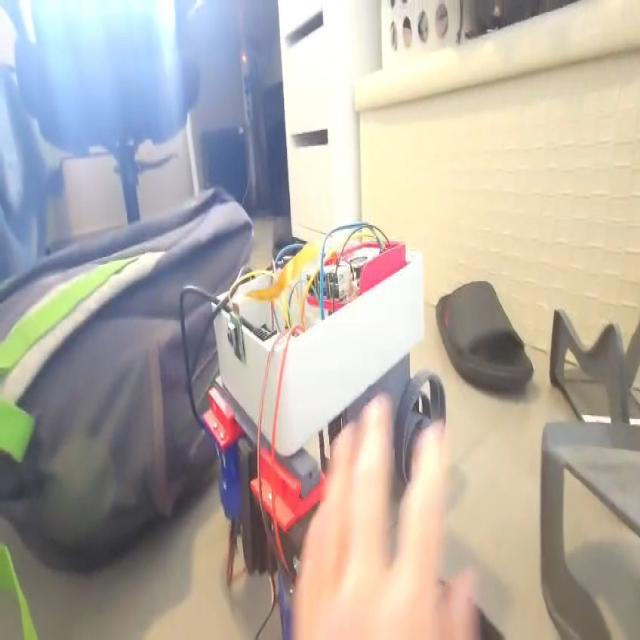Robot: (199, 231, 445, 640)
